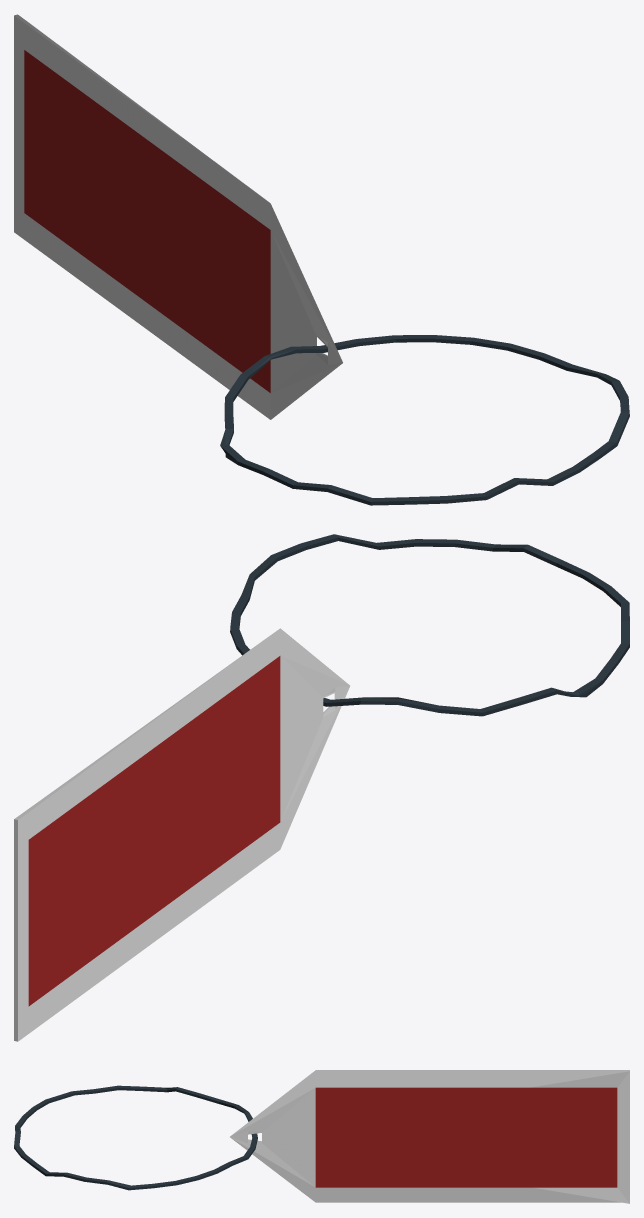
The model's file is RedpointTag.fbx.
3 renders of one model, top to bottom at view 1: azimuth 30°, elevation 25°; view 2: azimuth 150°, elevation 25°; view 3: azimuth 270°, elevation 25°, orthographic. The views are drawn at different scales.
Visible parts, largest first — view 1: RectanglePointTag; view 2: RectanglePointTag; view 3: RectanglePointTag.
Boxes of the visible parts, left/top/right/bottom form: RectanglePointTag: left=14, top=14, right=629, bottom=505; RectanglePointTag: left=14, top=534, right=629, bottom=1041; RectanglePointTag: left=14, top=1070, right=629, bottom=1203.
Bounding box in the file's own units: 55 × 31.91 × 134.
